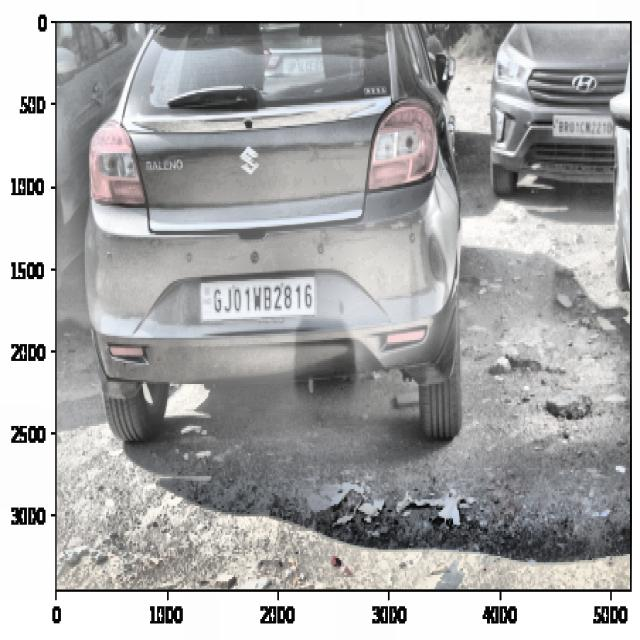license_plate: (209, 277, 316, 321)
